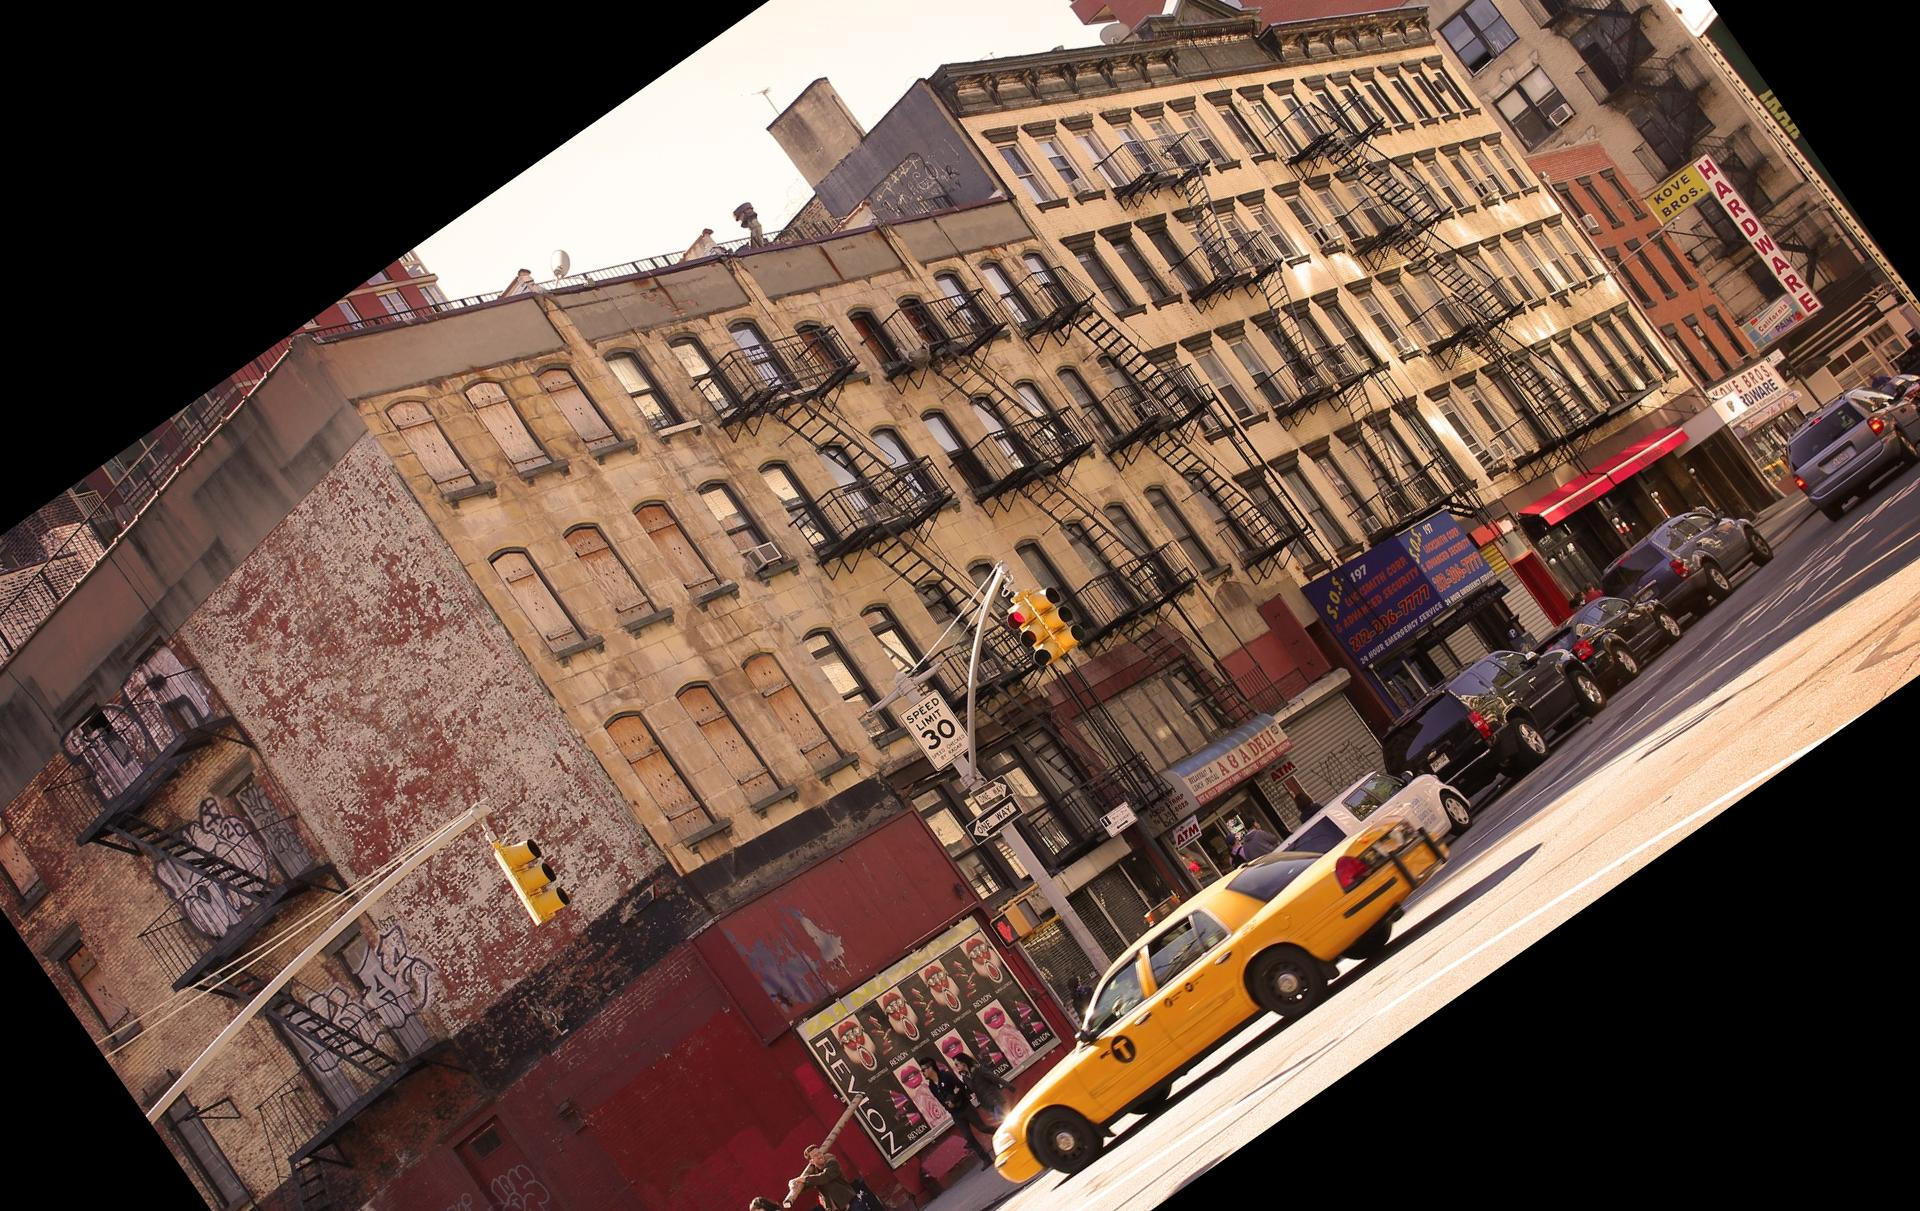taxi: (975, 822, 1444, 1180)
